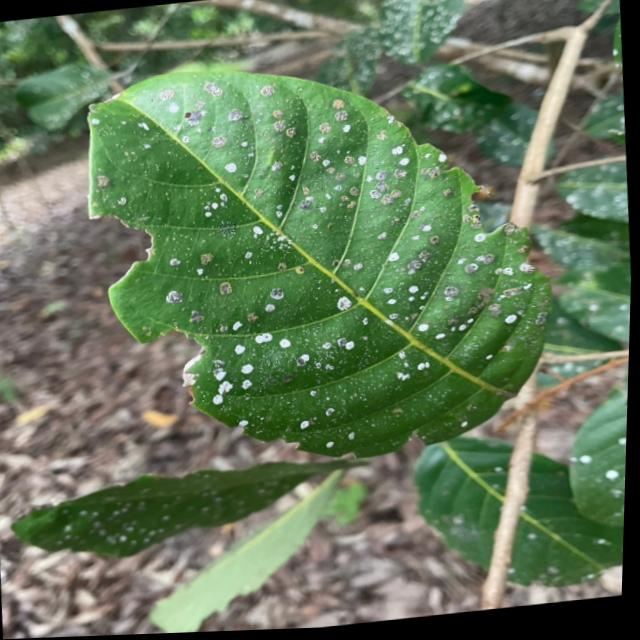Algal Leaf Spot: (114, 58, 560, 475)
